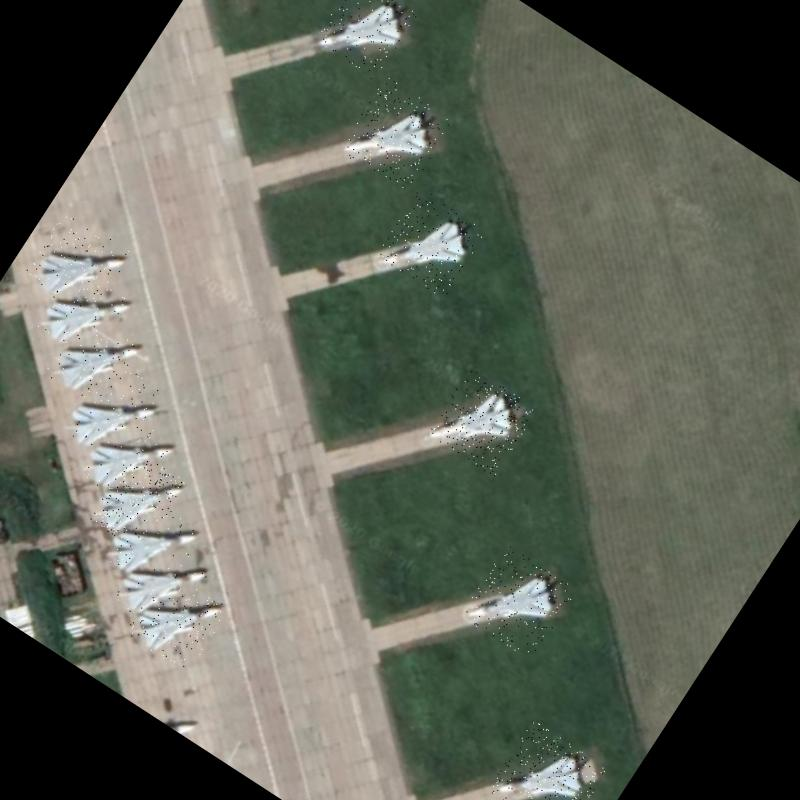A20: (338, 76, 456, 196), (460, 544, 577, 662), (376, 187, 488, 300), (21, 210, 134, 322), (427, 366, 538, 478), (106, 529, 214, 638), (124, 567, 231, 675), (43, 302, 148, 411), (66, 359, 165, 466), (80, 407, 178, 512), (89, 448, 186, 553), (36, 263, 134, 365), (486, 720, 609, 800), (107, 497, 199, 595), (313, 0, 419, 82)
